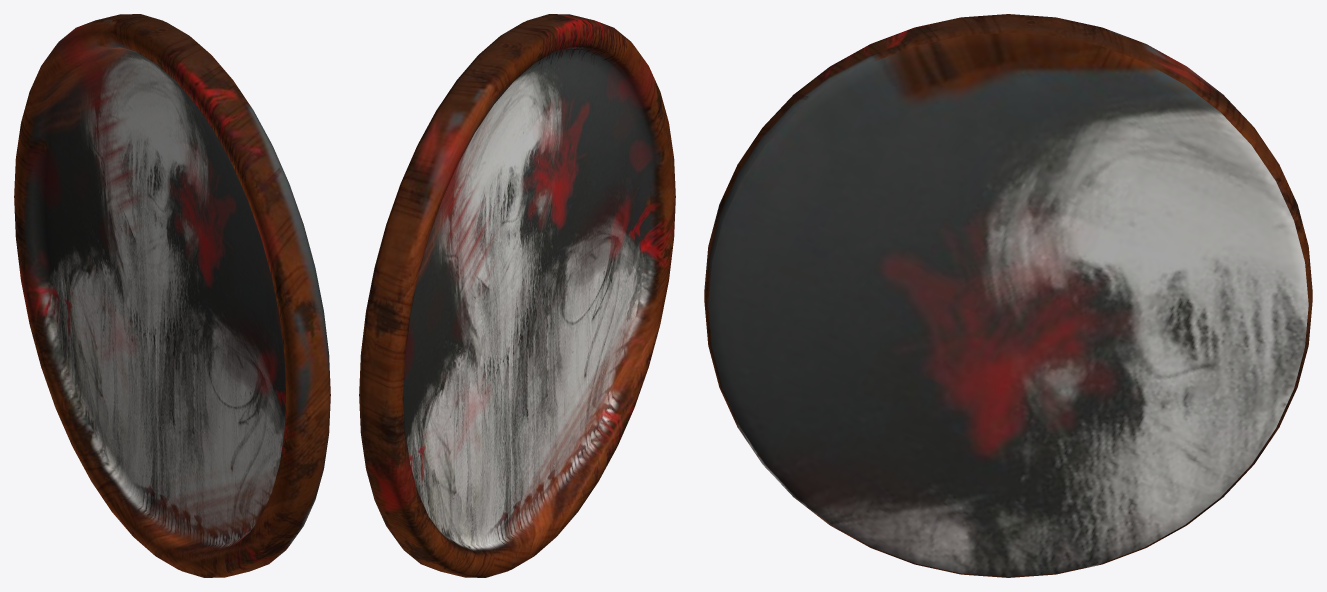
File: circle_frame.gltf
3 views of the same model, side by side, from view 1: azimuth 30°, elevation 25°; view 2: azimuth 150°, elevation 25°; view 3: azimuth 270°, elevation 25° (orthographic). The views are drawn at different scales.
Parts seen in each view (by area): view 1: pCube4_SS_Circle_Frame_0; view 2: pCube4_SS_Circle_Frame_0; view 3: pCube4_SS_Circle_Frame_0.
Part boxes in pixels (x1=…): pCube4_SS_Circle_Frame_0: x1=14, y1=14, x2=330, y2=577; pCube4_SS_Circle_Frame_0: x1=359, y1=14, x2=675, y2=577; pCube4_SS_Circle_Frame_0: x1=704, y1=14, x2=1312, y2=577.
Size of the model in its own units: 0.00195 by 0.0258 by 0.0258.
Materials: 1 (1 with a texture image).
